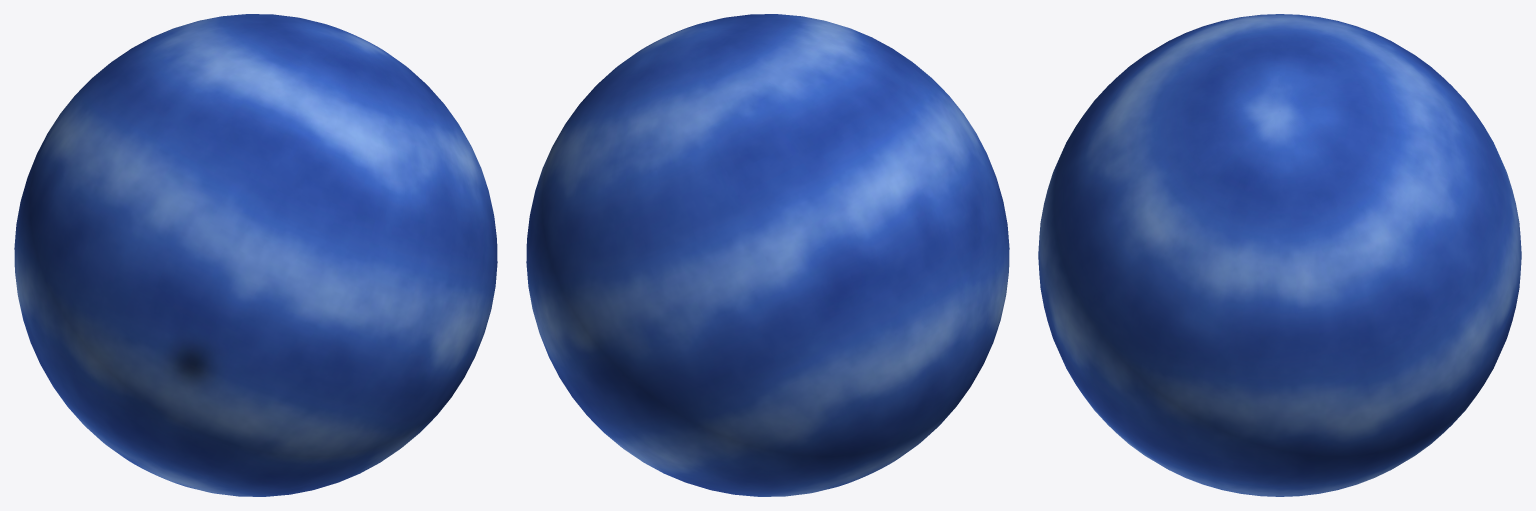
The model's file is neptune.glb.
3 renders of one model, left to right at view 1: azimuth 30°, elevation 25°; view 2: azimuth 150°, elevation 25°; view 3: azimuth 270°, elevation 25°, orthographic.
Visible parts, largest first — view 1: neptune; view 2: neptune; view 3: neptune.
Boxes of the visible parts, left/top/right/bottom form: neptune: left=14, top=14, right=497, bottom=496; neptune: left=526, top=14, right=1009, bottom=496; neptune: left=1038, top=14, right=1521, bottom=496.
Size of the model in its own units: 2 by 2 by 2.
1 material, 1 textured.
